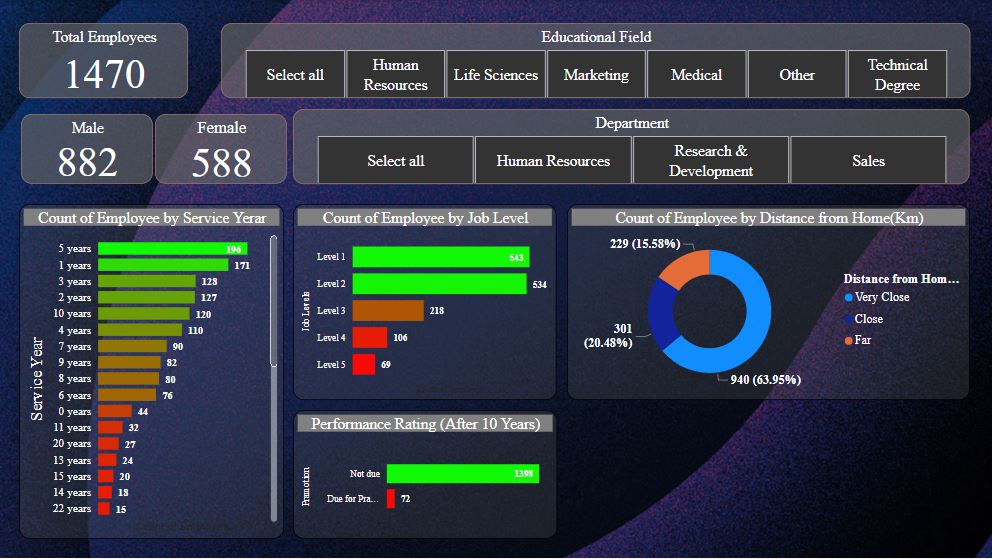

What the dashboard file says about the page in this screenshot:
{"tool":"powerbi","page":{"name":"Page 2","canvas":[1280,720],"ordinal":1},"visuals":[{"type":"card","title":"Total Employees","fields":{"Values":["Employee Data 2018 - 2019.Name"]},"box":[25,30,218.3,96.7],"z":0},{"type":"slicer","title":"Department","fields":{"Values":["Employee Data 2018 - 2019.Department"]},"box":[378.3,140,873.3,96.7],"z":1000},{"type":"slicer","title":"Educational Field","fields":{"Values":["Employee Data 2018 - 2019.EducationField"]},"box":[285,30,966.7,96.7],"z":2000},{"type":"clusteredBarChart","fields":{"Category":["Employee Data 2018 - 2019.Service Yerar"],"Y":["Employee Data 2018 - 2019.Employee"]},"box":[25,263.3,341.7,431.7],"z":3000},{"type":"clusteredBarChart","fields":{"Y":["Employee Data 2018 - 2019.Employee"],"Category":["Employee Data 2018 - 2019.Job Level"]},"box":[378.3,263.3,340,253.3],"z":4000},{"type":"donutChart","fields":{"Category":["Employee Data 2018 - 2019.Distance from Home(Km)"],"Y":["Employee Data 2018 - 2019.Employee"]},"box":[731.7,263.3,520,253.3],"z":5000},{"type":"card","title":"Male","fields":{"Values":["Employee Data 2018 - 2019.Male"]},"box":[26.7,146.7,170,90],"z":6000},{"type":"card","title":"Female","fields":{"Values":["Employee Data 2018 - 2019.Female"]},"box":[200,146.7,170,90],"z":7000},{"type":"barChart","title":"Performance Rating (After 10 Years)","fields":{"Category":["Employee Data 2018 - 2019.Pramotion"],"Y":["Employee Data 2018 - 2019.Performance Rating"]},"box":[366.7,498.3,340,166.7],"z":8000}]}

Visuals, with their boxes in screenshot pixels (x1, y1, x2, y2), scaled from the page's 1280x720 canvas onto the 992x559 screenshot:
"Total Employees" card: left=19, top=23, right=189, bottom=98
"Department" slicer: left=293, top=109, right=970, bottom=184
"Educational Field" slicer: left=221, top=23, right=970, bottom=98
clusteredBarChart - Employee Data 2018 - 2019.Service Yerar x Employee Data 2018 - 2019.Employee: left=19, top=204, right=284, bottom=540
clusteredBarChart - Employee Data 2018 - 2019.Employee x Employee Data 2018 - 2019.Job Level: left=293, top=204, right=557, bottom=401
donutChart - Employee Data 2018 - 2019.Distance from Home(Km) x Employee Data 2018 - 2019.Employee: left=567, top=204, right=970, bottom=401
"Male" card: left=21, top=114, right=152, bottom=184
"Female" card: left=155, top=114, right=287, bottom=184
"Performance Rating (After 10 Years)" barChart: left=284, top=387, right=548, bottom=516
